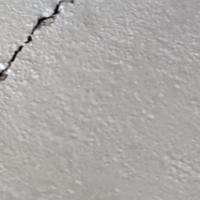crack: (2, 0, 69, 88)
